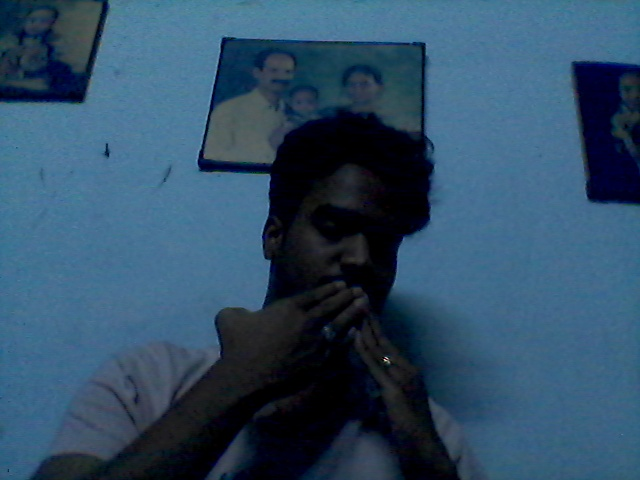Hi: (194, 274, 462, 440)
